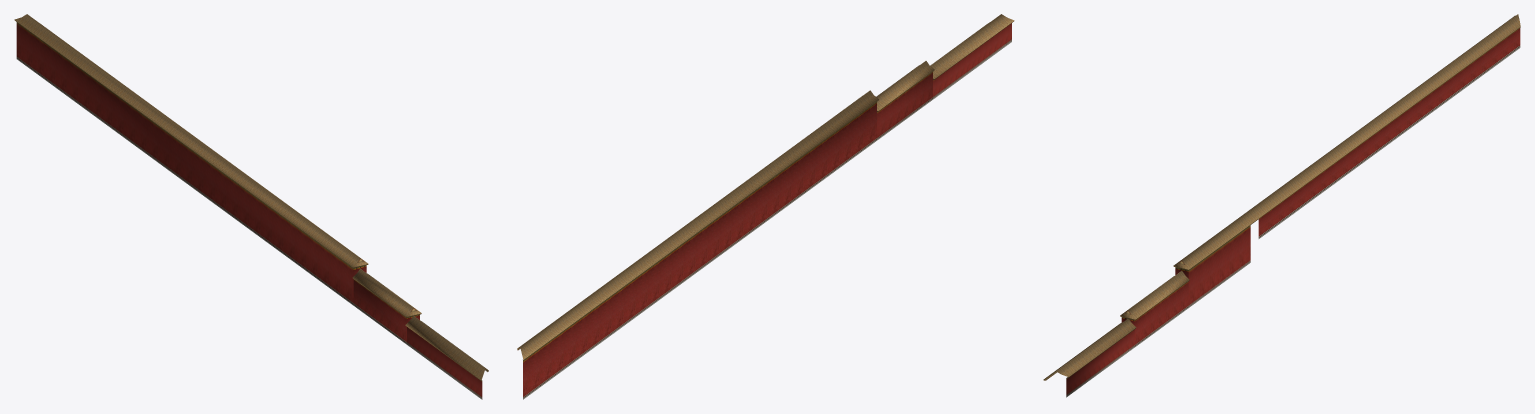
The model's file is cj_pal_dam_left.glb.
The picture shows the model from 3 angles, left to right: view 1: azimuth 30°, elevation 25°; view 2: azimuth 150°, elevation 25°; view 3: azimuth 330°, elevation 25°; orthographic projection. The views are drawn at different scales.
Visible parts, largest first — view 1: CJ_pal_dam_left_wall, CJ_pal_dam_left_roof; view 2: CJ_pal_dam_left_wall, CJ_pal_dam_left_roof; view 3: CJ_pal_dam_left_wall, CJ_pal_dam_left_roof.
Boxes of the visible parts, bbox=[...] form: CJ_pal_dam_left_wall: bbox=[16, 22, 482, 399]; CJ_pal_dam_left_roof: bbox=[14, 14, 488, 381]; CJ_pal_dam_left_wall: bbox=[523, 23, 1011, 399]; CJ_pal_dam_left_roof: bbox=[517, 14, 1014, 360]; CJ_pal_dam_left_wall: bbox=[1066, 28, 1520, 397]; CJ_pal_dam_left_roof: bbox=[1043, 14, 1520, 380].
Bounding box in the file's own units: 3.86 × 10.56 × 193.
2 materials, 2 textured.
